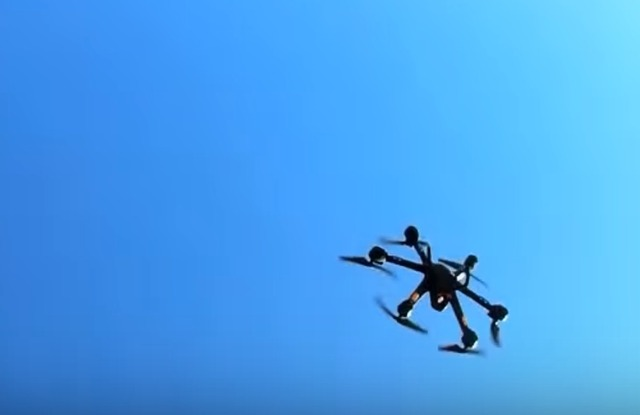drone: (337, 225, 508, 359)
